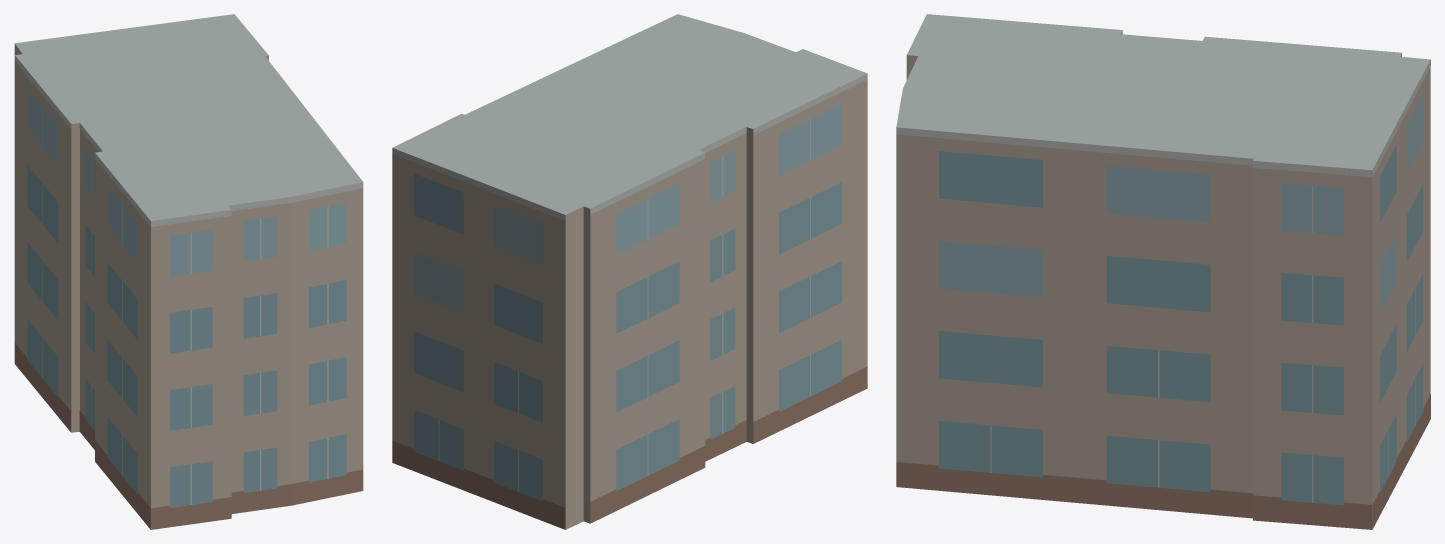
File: survey-upis-32656329.glb
The picture shows the model from 3 angles, left to right: view 1: azimuth 30°, elevation 25°; view 2: azimuth 150°, elevation 25°; view 3: azimuth 270°, elevation 25°; orthographic projection. The views are drawn at different scales.
Visible parts, largest first — view 1: survey-upis-32656329.tmp; view 2: survey-upis-32656329.tmp; view 3: survey-upis-32656329.tmp.
Boxes of the visible parts, <box> form: survey-upis-32656329.tmp: <box>14,14,363,529</box>; survey-upis-32656329.tmp: <box>392,14,867,529</box>; survey-upis-32656329.tmp: <box>896,14,1430,529</box>.
Size of the model in its own units: 11.66 by 12.5 by 16.84.
